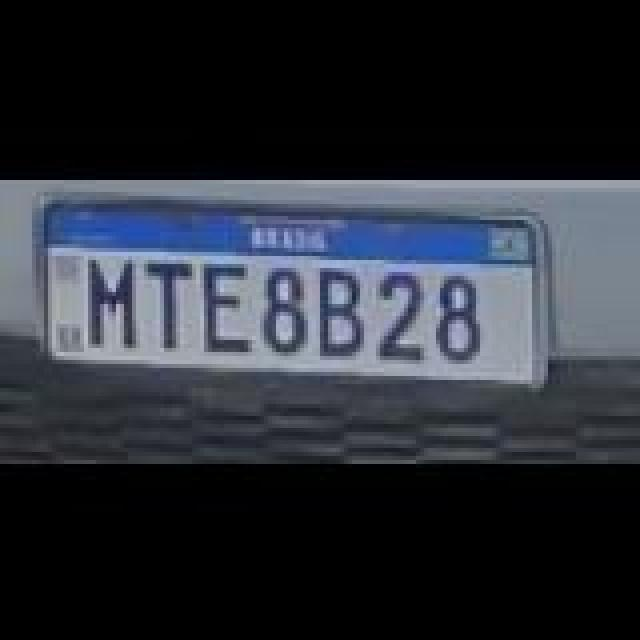2: (380, 268, 428, 356)
8: (264, 264, 312, 352), (438, 272, 482, 360)
B: (316, 268, 364, 356)
E: (202, 262, 254, 354)
M: (90, 256, 142, 352)
T: (148, 260, 196, 348)
